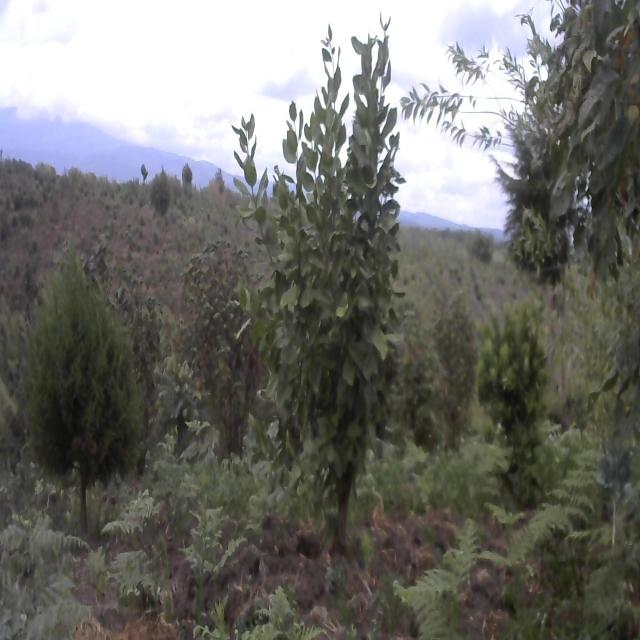cedrus: (17, 249, 148, 535)
other: (234, 14, 433, 562)
